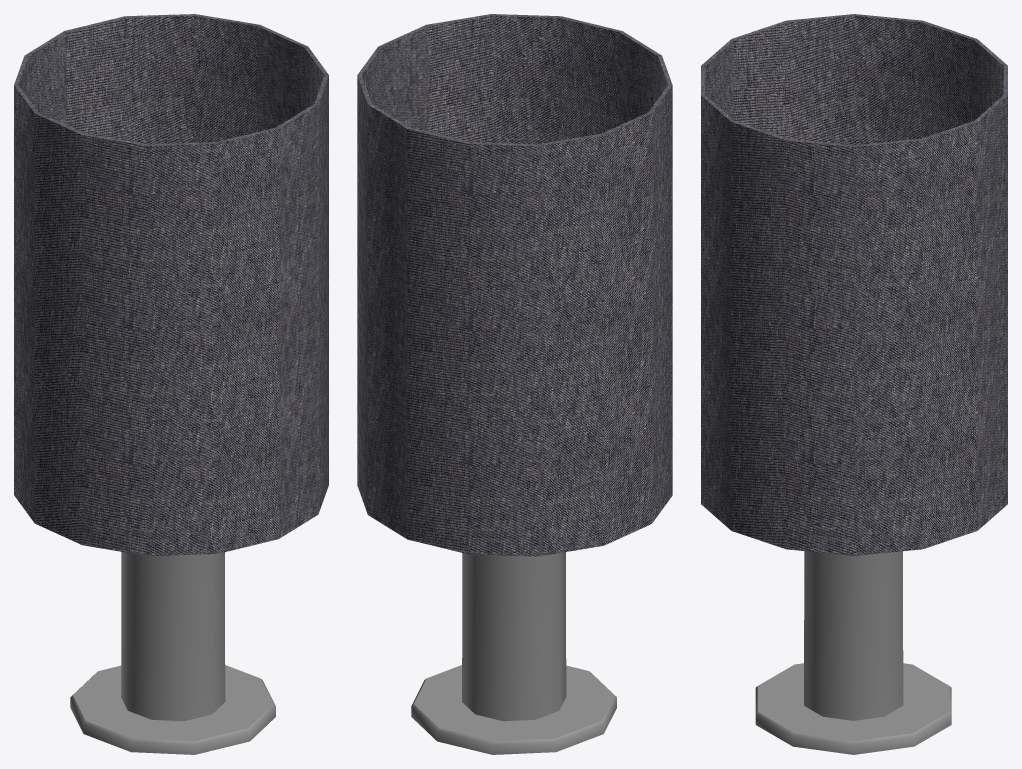
File: PROPS_lamp_03.FBX
The picture shows the model from 3 angles, left to right: view 1: azimuth 30°, elevation 25°; view 2: azimuth 150°, elevation 25°; view 3: azimuth 270°, elevation 25°; orthographic projection.
Visible parts, largest first — view 1: PROPS_lamp_03; view 2: PROPS_lamp_03; view 3: PROPS_lamp_03.
Part boxes in pixels (x1=…): PROPS_lamp_03: x1=14, y1=14, x2=328, y2=754; PROPS_lamp_03: x1=357, y1=14, x2=672, y2=754; PROPS_lamp_03: x1=701, y1=14, x2=1007, y2=754.
Bounding box in the file's own units: 31.64 × 69.87 × 30.85.
2 materials, 1 textured.
